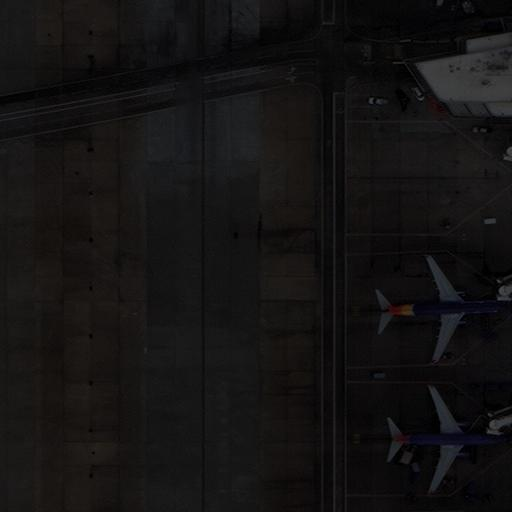Medium Civil Transport: (371, 255, 511, 361), (387, 385, 510, 493)
